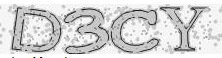3: (64, 7, 110, 55)
C: (109, 7, 161, 54)
D: (10, 5, 62, 54)
Y: (159, 5, 213, 53)
